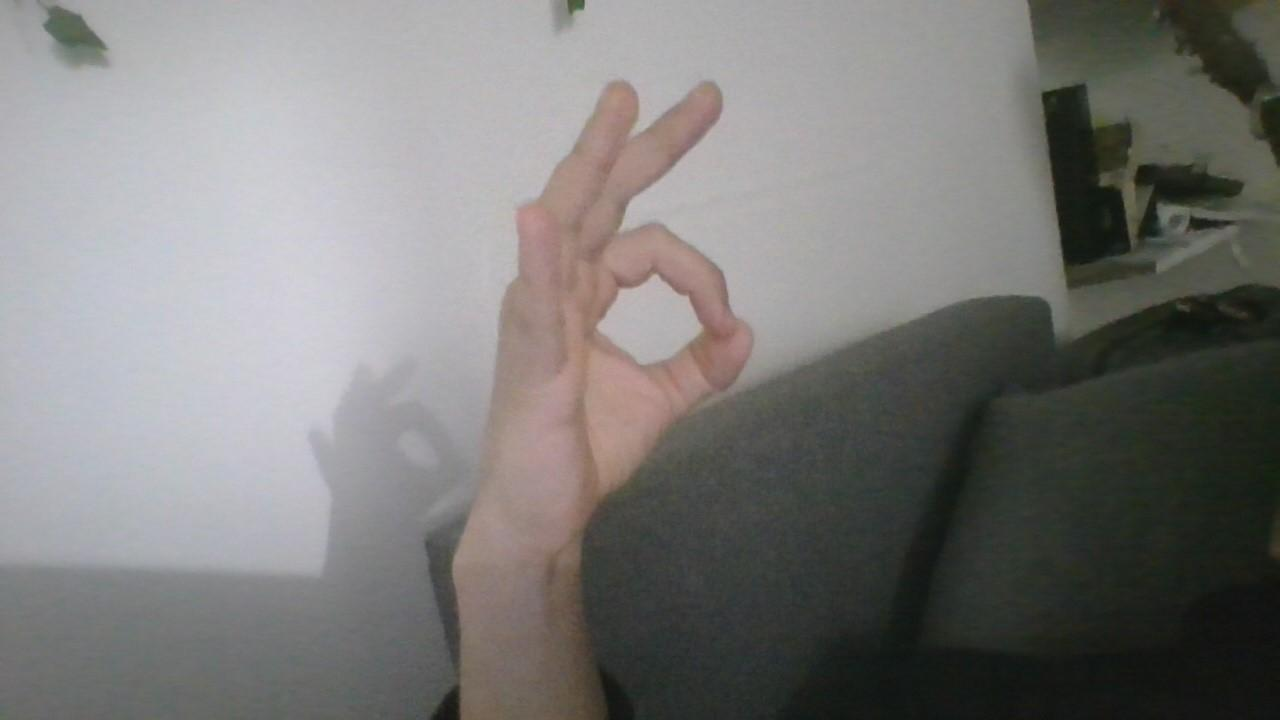zero: (420, 63, 763, 546)
